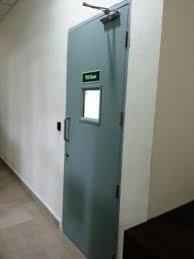exit: (63, 1, 129, 258)
